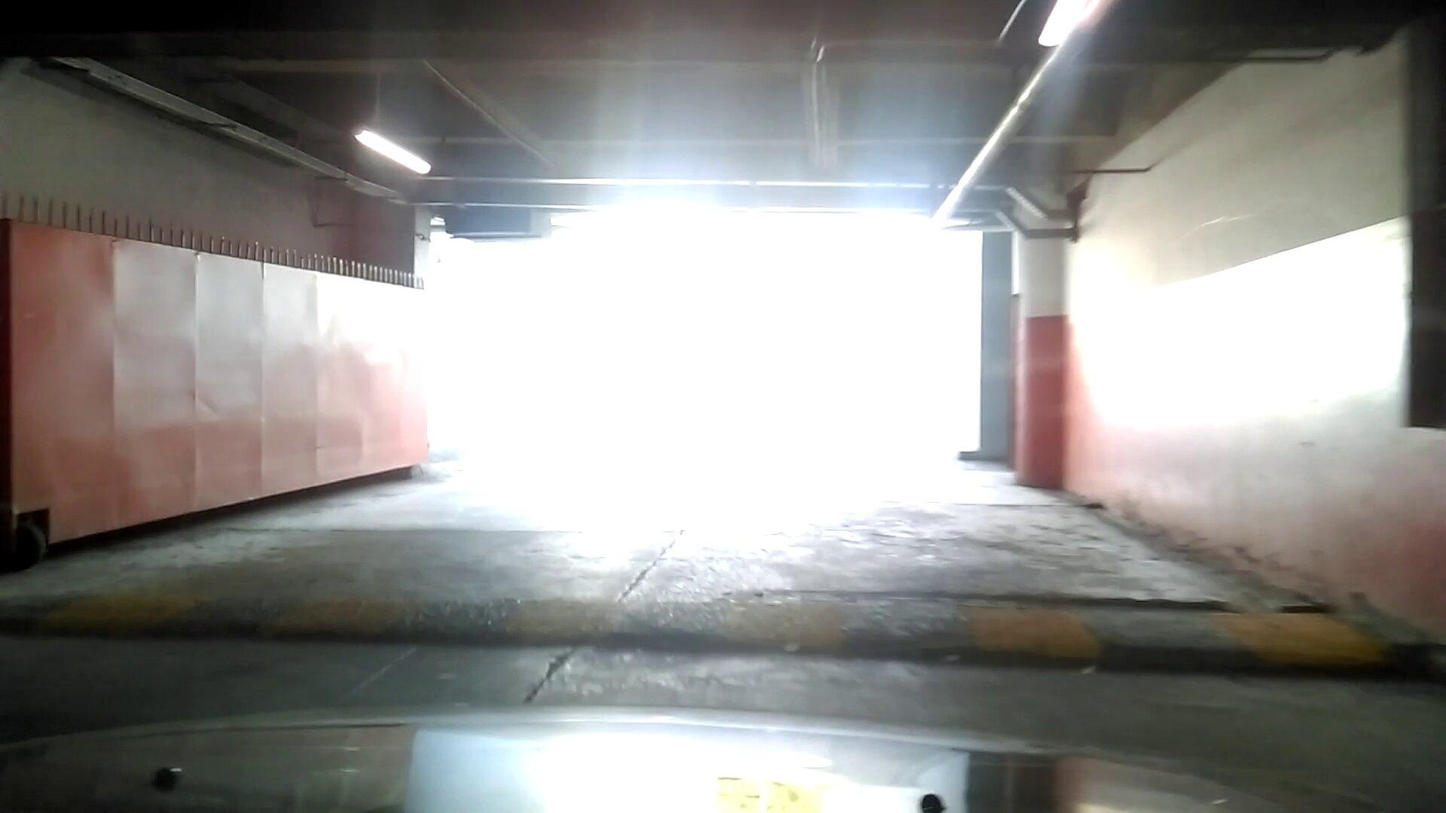Bump: (0, 578, 1422, 704)
